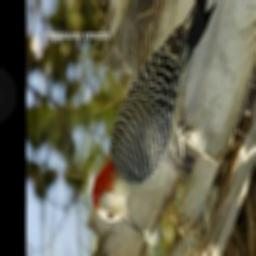Woodpecker: (87, 0, 217, 234)
